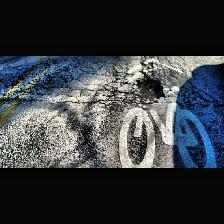pothole: (134, 75, 166, 107)
